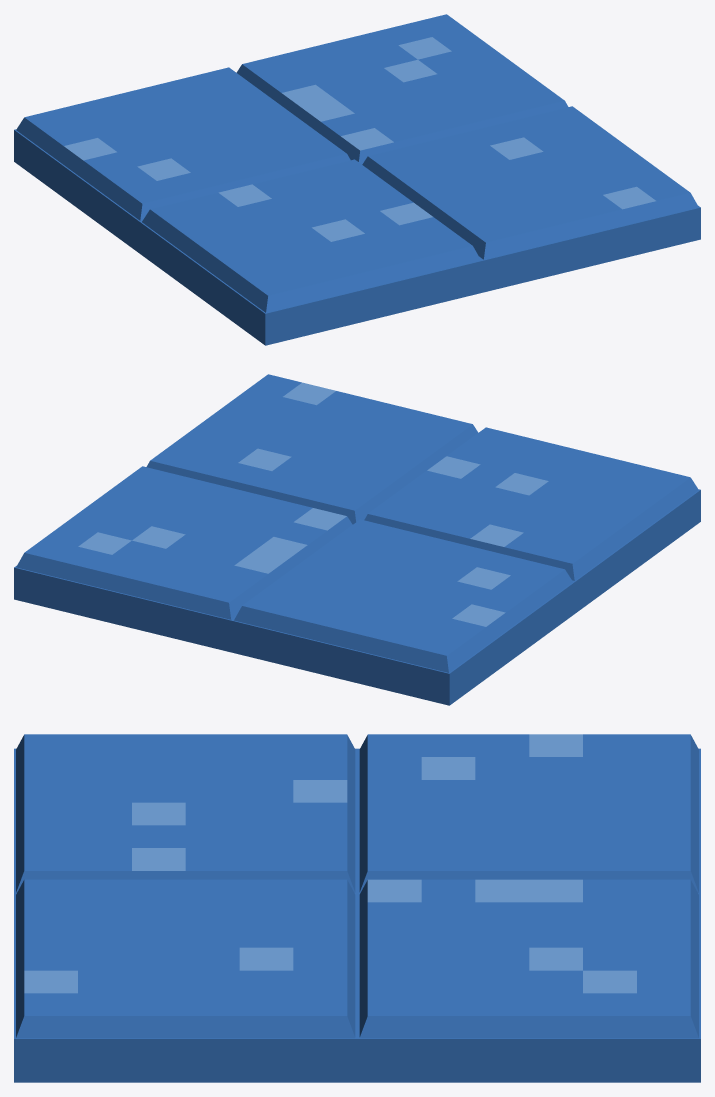
The model's file is piso_emborrachado.glb.
3 views of the same model, one above another, from view 1: azimuth 30°, elevation 25°; view 2: azimuth 150°, elevation 25°; view 3: azimuth 270°, elevation 25° (orthographic). The views are drawn at different scales.
Visible parts, largest first — view 1: piso_emborrachado; view 2: piso_emborrachado; view 3: piso_emborrachado.
Boxes of the visible parts, x1,y1,x2,y2 form: piso_emborrachado: (14,14,700,345); piso_emborrachado: (14,374,700,705); piso_emborrachado: (14,734,700,1082).
Bounding box in the file's own units: 1 × 0.1 × 1.
